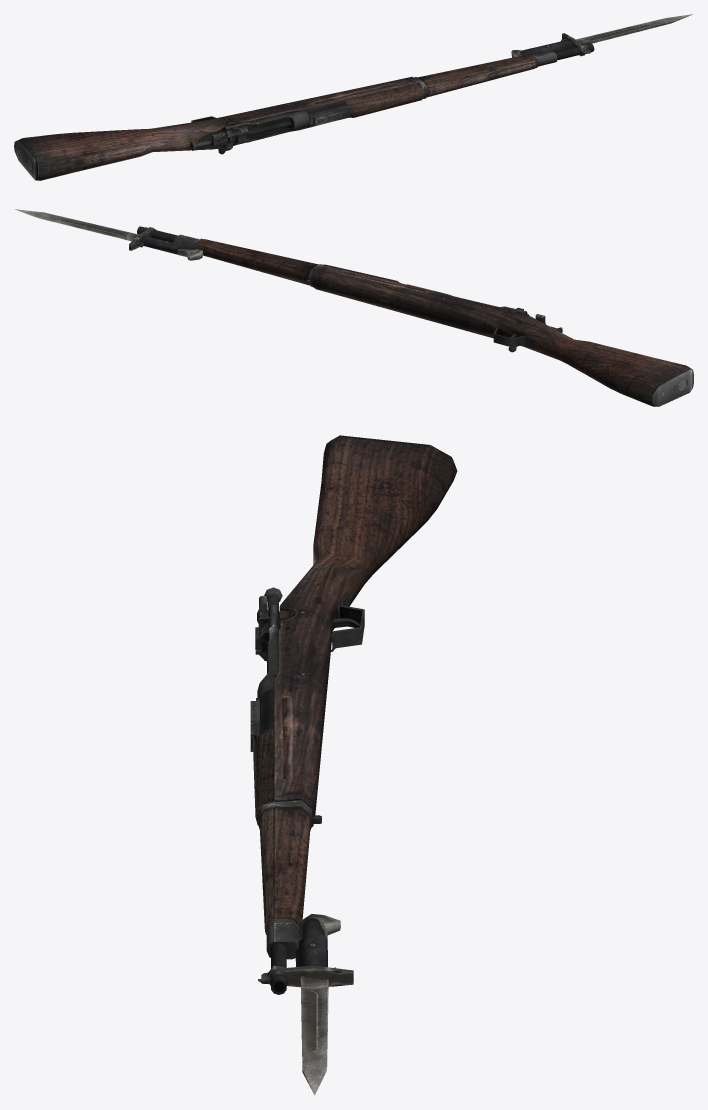
The model's file is weapon_usa_springfield_rifle_bayonet_LOD01.obj.
The picture shows the model from 3 angles, top to bottom: view 1: azimuth 30°, elevation 25°; view 2: azimuth 150°, elevation 25°; view 3: azimuth 270°, elevation 25°; orthographic projection. The views are drawn at different scales.
Parts seen in each view (by area): view 1: TomGroup_0, TomGroup_1; view 2: TomGroup_0, TomGroup_1; view 3: TomGroup_0, TomGroup_1.
Part boxes in pixels (left/top/right/bottom): TomGroup_0: left=14, top=43, right=594, bottom=180; TomGroup_1: left=511, top=14, right=692, bottom=57; TomGroup_0: left=137, top=226, right=693, bottom=406; TomGroup_1: left=15, top=209, right=202, bottom=260; TomGroup_0: left=250, top=435, right=457, bottom=994; TomGroup_1: left=267, top=914, right=353, bottom=1095.
Size of the model in its own units: 153 by 7.86 by 20.93.
2 materials, 2 textured.
